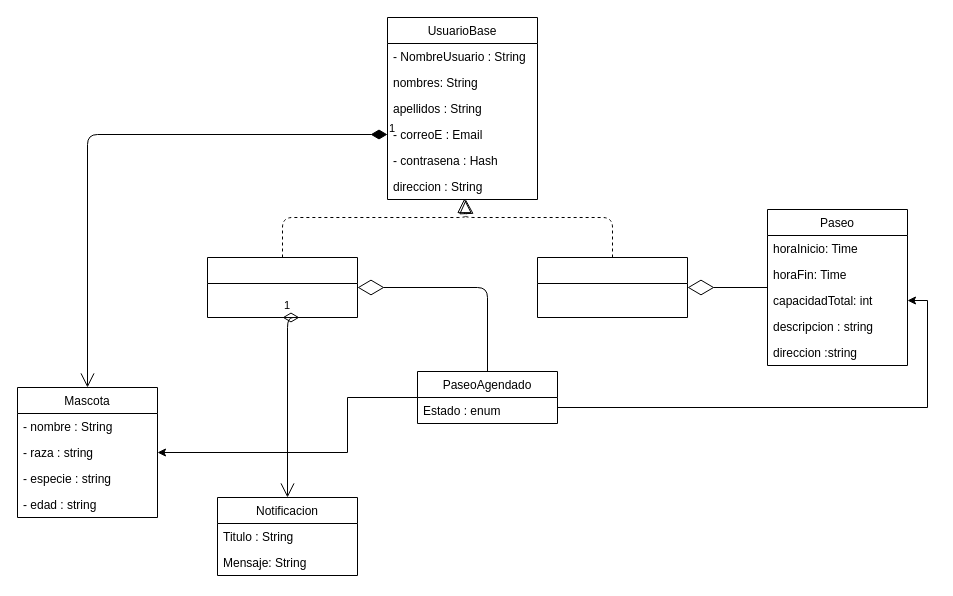
Image size: 953x596. Some labels were removed from this diagram. Each missing label, with the centre of its shape:
"Paseador" goes at [612,287].
"Usuario" goes at [282,287].
